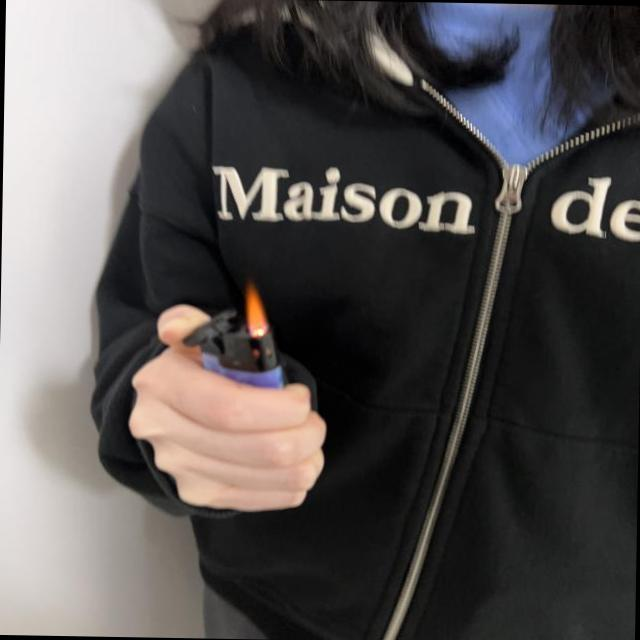Fire: (242, 280, 270, 336)
